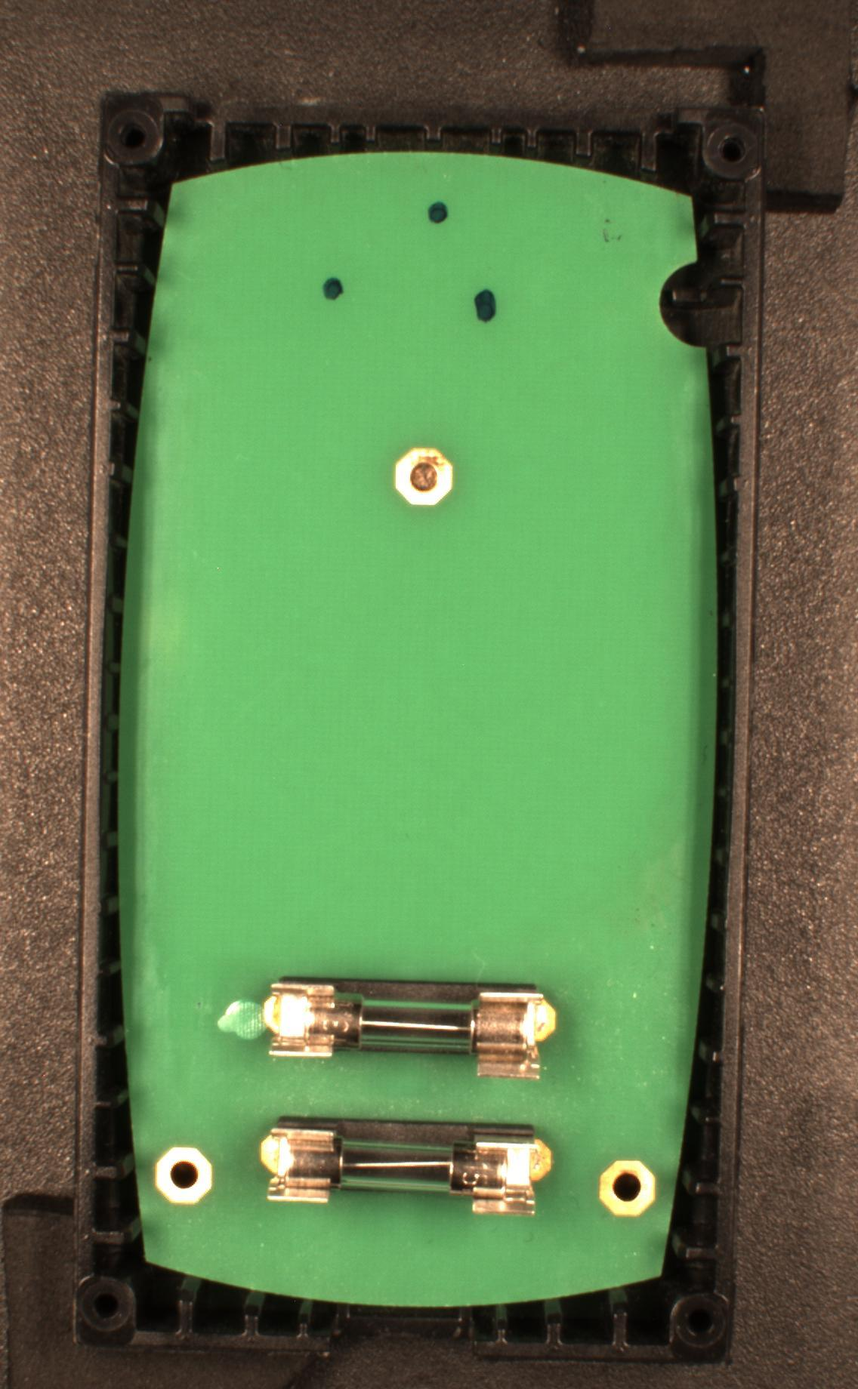Tockasto Ostecenje: (472, 287, 499, 325), (319, 274, 345, 301), (427, 200, 449, 225)
